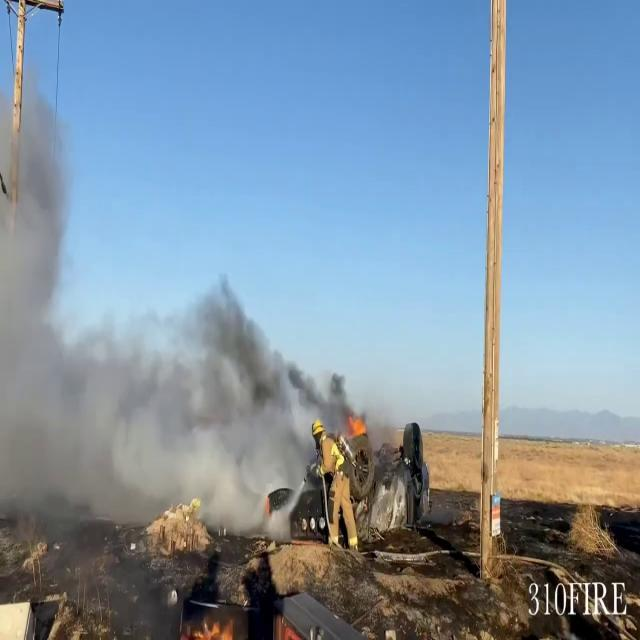Smoke: (2, 267, 334, 522), (0, 60, 78, 274)
